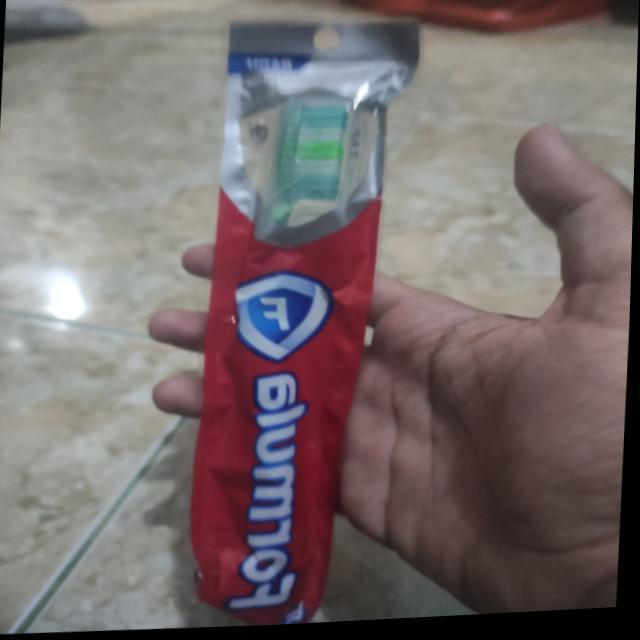toothbrush: (232, 96, 356, 591)
